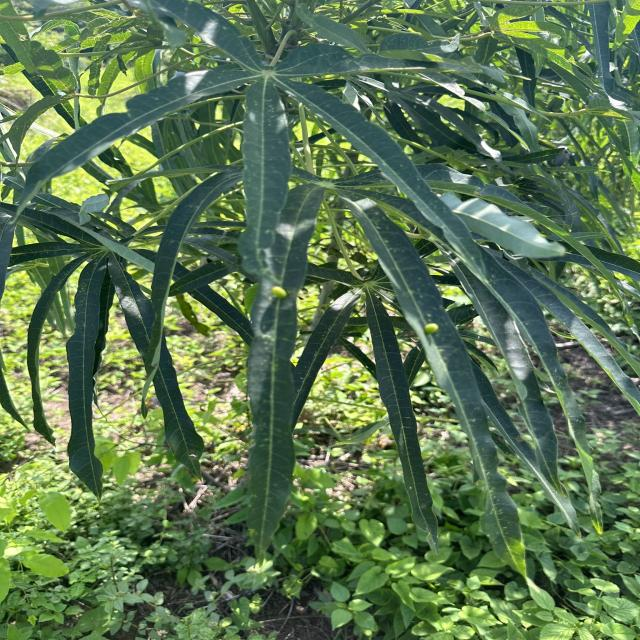Maleza: (314, 510, 640, 640), (0, 472, 200, 635)
Mosca: (260, 276, 293, 308), (423, 318, 445, 339)
